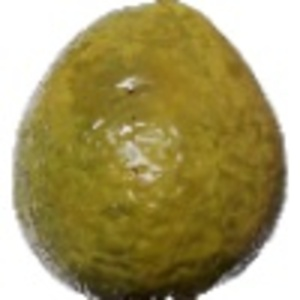goiaba: (6, 3, 284, 290)
